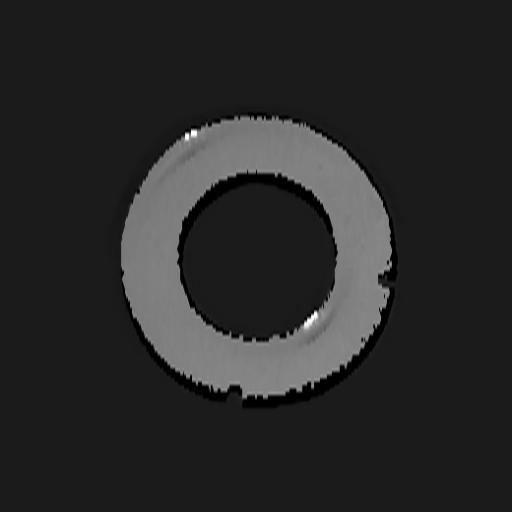defect: (376, 268, 396, 291), (225, 383, 244, 403)
